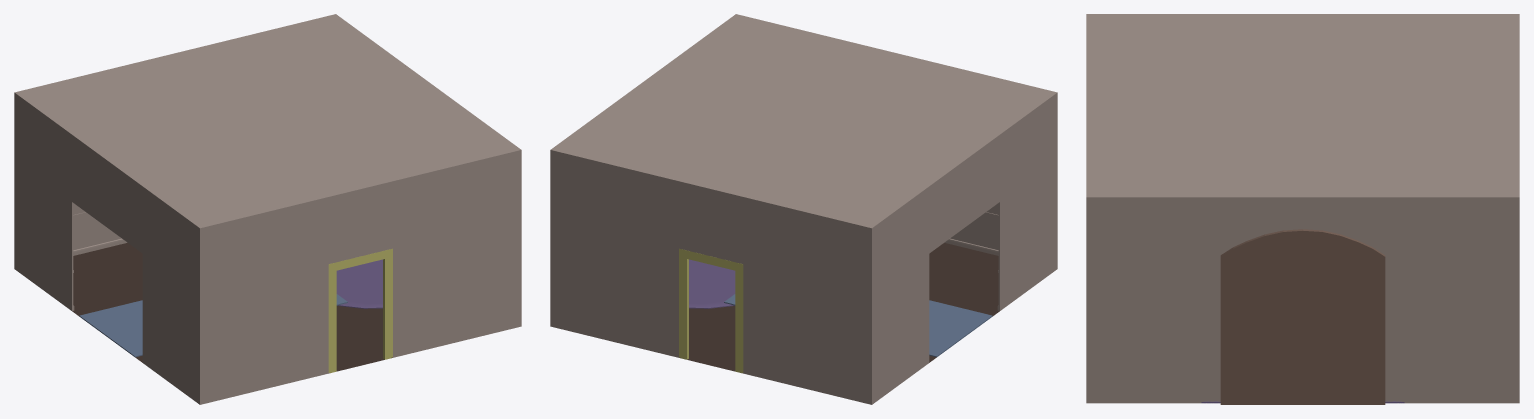
Rendered from Room19_EntranceHall.fbx.
The picture shows the model from 3 angles, left to right: view 1: azimuth 30°, elevation 25°; view 2: azimuth 150°, elevation 25°; view 3: azimuth 270°, elevation 25°; orthographic projection. The views are drawn at different scales.
Visible parts, largest first — view 1: Roof, WallSlicedPosZ, WallOpenPosX, WallSlicedPosZ22, Floor, WallOpenPosX1, DoorFramePosZ, Rug, EntranceRug, WallSlicedNegZ32, WallOpenNegX, WallSlicedNegZ; view 2: Roof, WallSlicedNegZ, WallOpenPosX, WallSlicedNegZ32, Floor, WallOpenPosX1, DoorFrameNegZ, Rug, EntranceRug, WallSlicedPosZ22, WallSlicedPosZ, WallOpenNegX; view 3: Roof, WallOpenNegX, MainDoor, WallOpenNegX2, WallSlicedPosZ, WallSlicedNegZ, WallOpenPosX.
Boxes of the visible parts, x1,y1,x2,y2 form: Roof: [17, 15, 518, 227]; WallSlicedPosZ: [199, 149, 521, 364]; WallOpenPosX: [14, 92, 201, 363]; WallSlicedPosZ22: [198, 286, 521, 404]; Floor: [72, 242, 392, 373]; WallOpenPosX1: [14, 229, 201, 403]; DoorFramePosZ: [328, 248, 392, 372]; Rug: [79, 294, 347, 357]; EntranceRug: [336, 259, 382, 308]; WallSlicedNegZ32: [14, 212, 127, 269]; WallOpenNegX: [335, 14, 521, 286]; WallSlicedNegZ: [14, 14, 335, 227]; Roof: [553, 15, 1054, 227]; WallSlicedNegZ: [550, 149, 872, 364]; WallOpenPosX: [870, 92, 1057, 364]; WallSlicedNegZ32: [550, 286, 873, 404]; Floor: [679, 242, 999, 373]; WallOpenPosX1: [869, 230, 1056, 404]; DoorFrameNegZ: [679, 248, 743, 372]; Rug: [724, 294, 992, 357]; EntranceRug: [689, 259, 735, 308]; WallSlicedPosZ22: [944, 212, 1057, 269]; WallSlicedPosZ: [735, 14, 1057, 228]; WallOpenNegX: [550, 14, 735, 285]; Roof: [1088, 14, 1517, 196]; WallOpenNegX: [1086, 196, 1519, 356]; MainDoor: [1220, 229, 1385, 404]; WallOpenNegX2: [1086, 356, 1519, 403]; WallSlicedPosZ: [1086, 14, 1087, 356]; WallSlicedNegZ: [1518, 14, 1519, 354]; WallOpenPosX: [1086, 14, 1519, 14].
Size of the model in its own units: 807 by 420 by 800.
